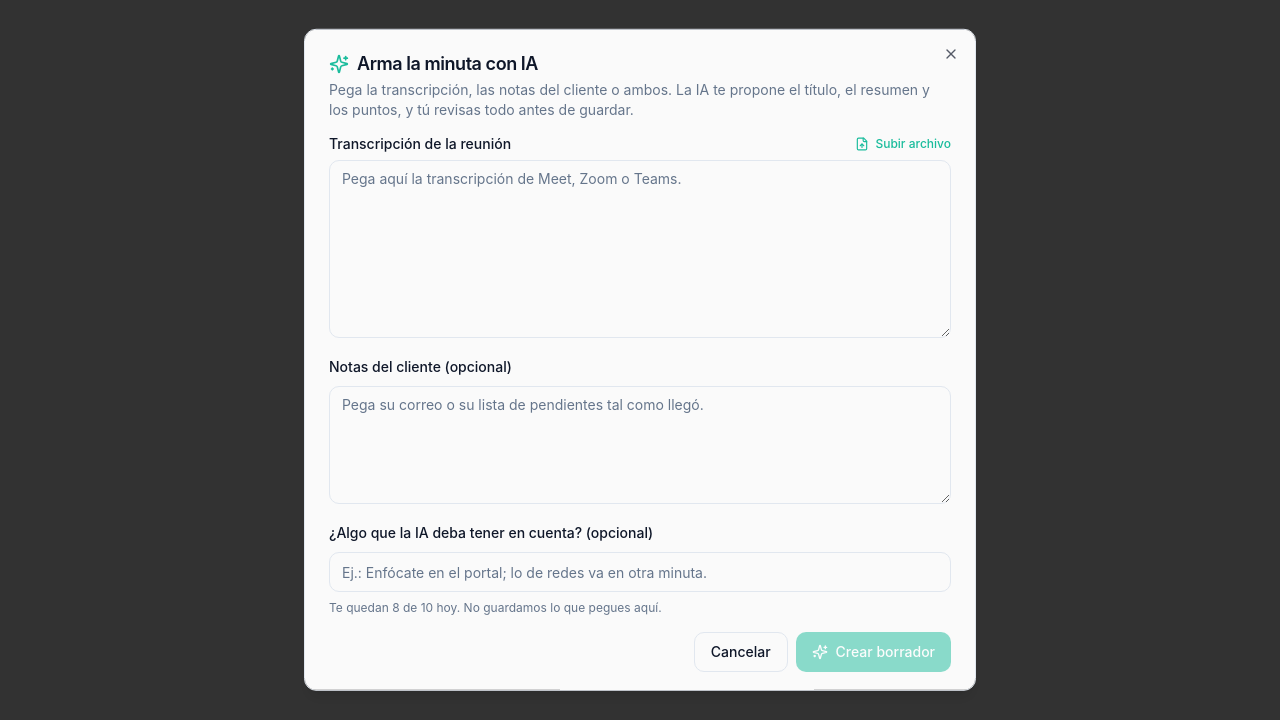
it: GenerarConIa › si falla muestra el motivo y deja intentar de nuevo
Type "Hola" into the text box labelled "Transcripción de la reunión". click: (640, 249)
box: top-left (329, 160), bottom-right (951, 338)
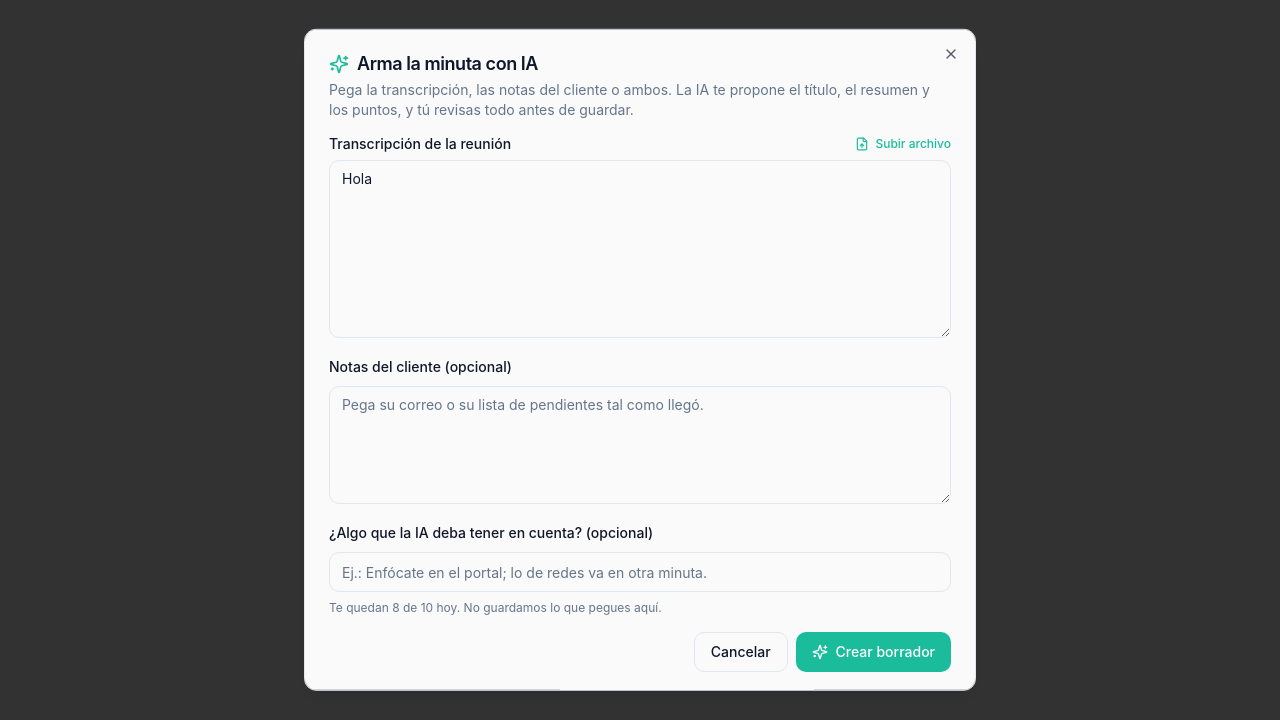
Click the button "Crear borrador". click: (873, 652)
box: top-left (796, 632), bottom-right (951, 672)
(page scrolled)
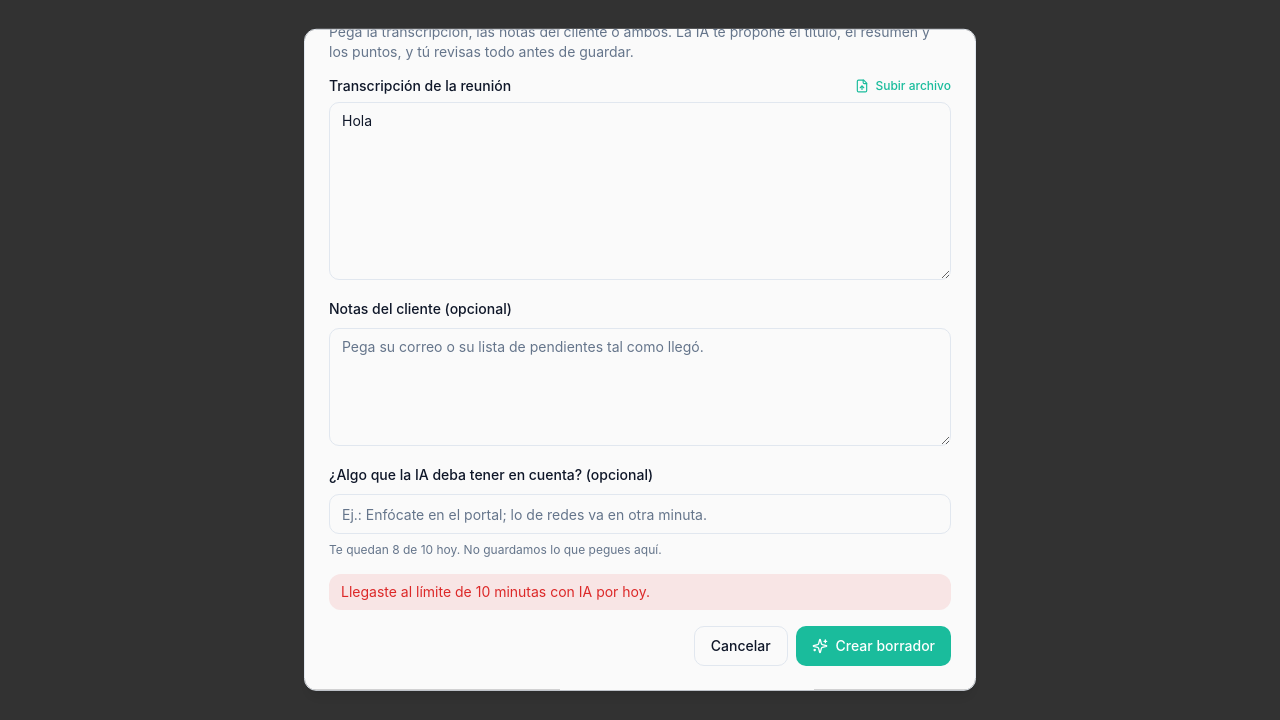
expect the button "Crear borrador" is enabled: met, box top-left (796, 626), bottom-right (951, 666)
expect the text "Llegaste al límite de 10 minutas con IA por hoy." is shown: met, box top-left (329, 574), bottom-right (951, 610)
